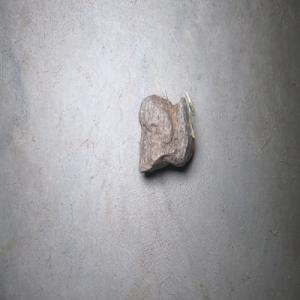Rock: (137, 91, 195, 174)
